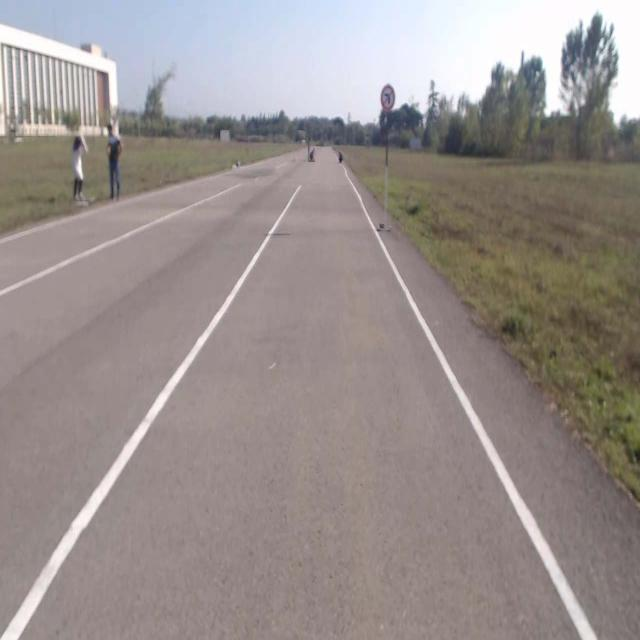soladonulmez: (380, 86, 394, 110)
